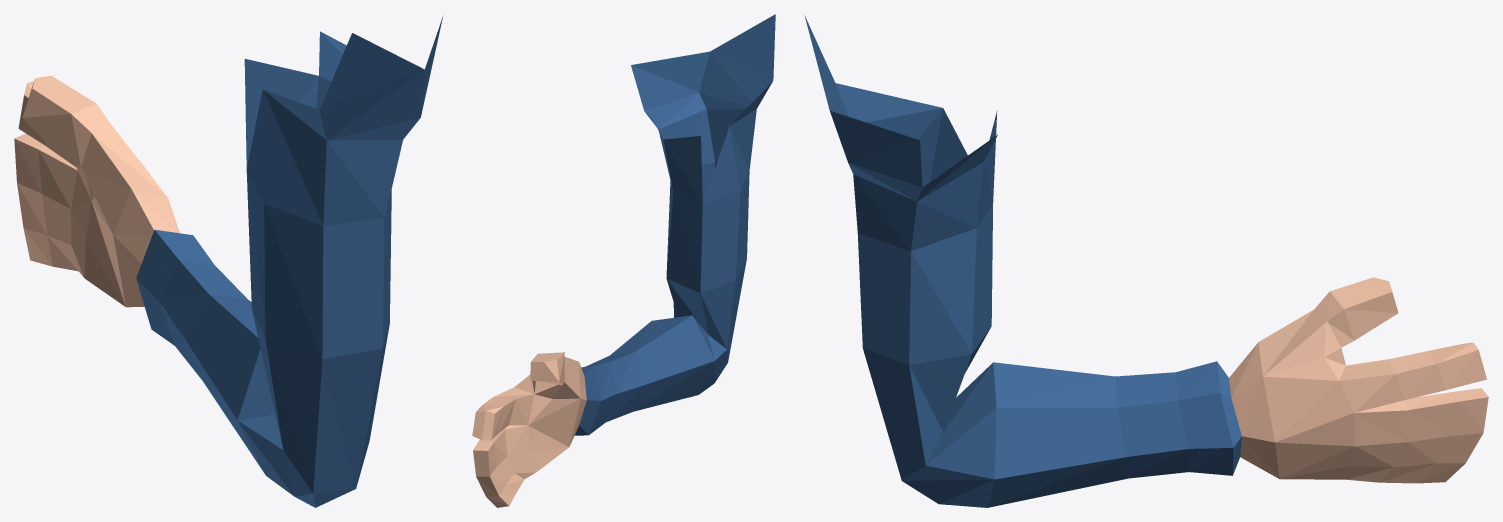
Rendered from Son_01_ArmR_96_02_A.obj.
The picture shows the model from 3 angles, left to right: view 1: azimuth 30°, elevation 25°; view 2: azimuth 150°, elevation 25°; view 3: azimuth 270°, elevation 25°; orthographic projection. The views are drawn at different scales.
Visible parts, largest first — view 1: Son_01_ArmR_96_02_A; view 2: Son_01_ArmR_96_02_A; view 3: Son_01_ArmR_96_02_A.
Boxes of the visible parts, x1,y1,x2,y2 form: Son_01_ArmR_96_02_A: [14, 17, 442, 507]; Son_01_ArmR_96_02_A: [472, 14, 775, 507]; Son_01_ArmR_96_02_A: [804, 15, 1488, 507].
Size of the model in its own units: 0.1573 by 0.469 by 0.6171.
1 material, 1 textured.
